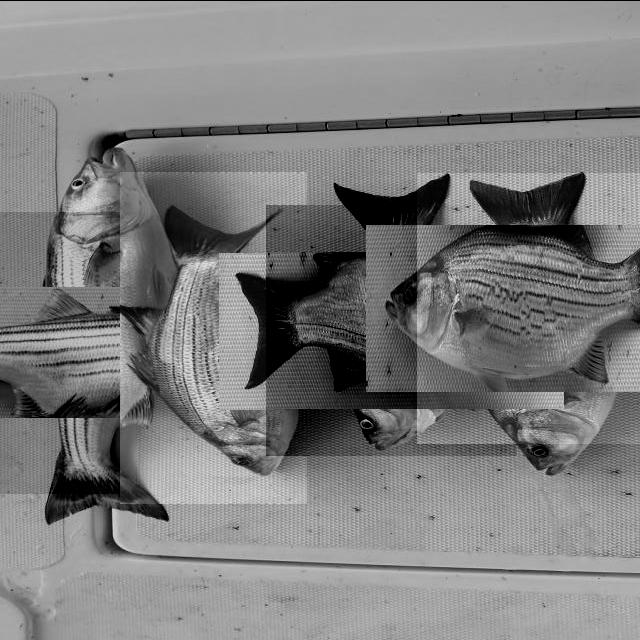Healthy Fish: (0, 211, 225, 493), (266, 204, 517, 455), (120, 170, 307, 502), (417, 172, 640, 443)
